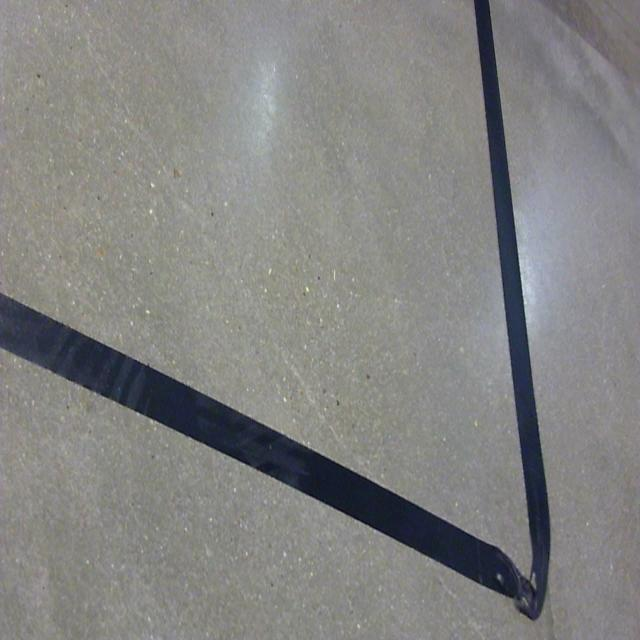tape: (0, 0, 568, 633)
